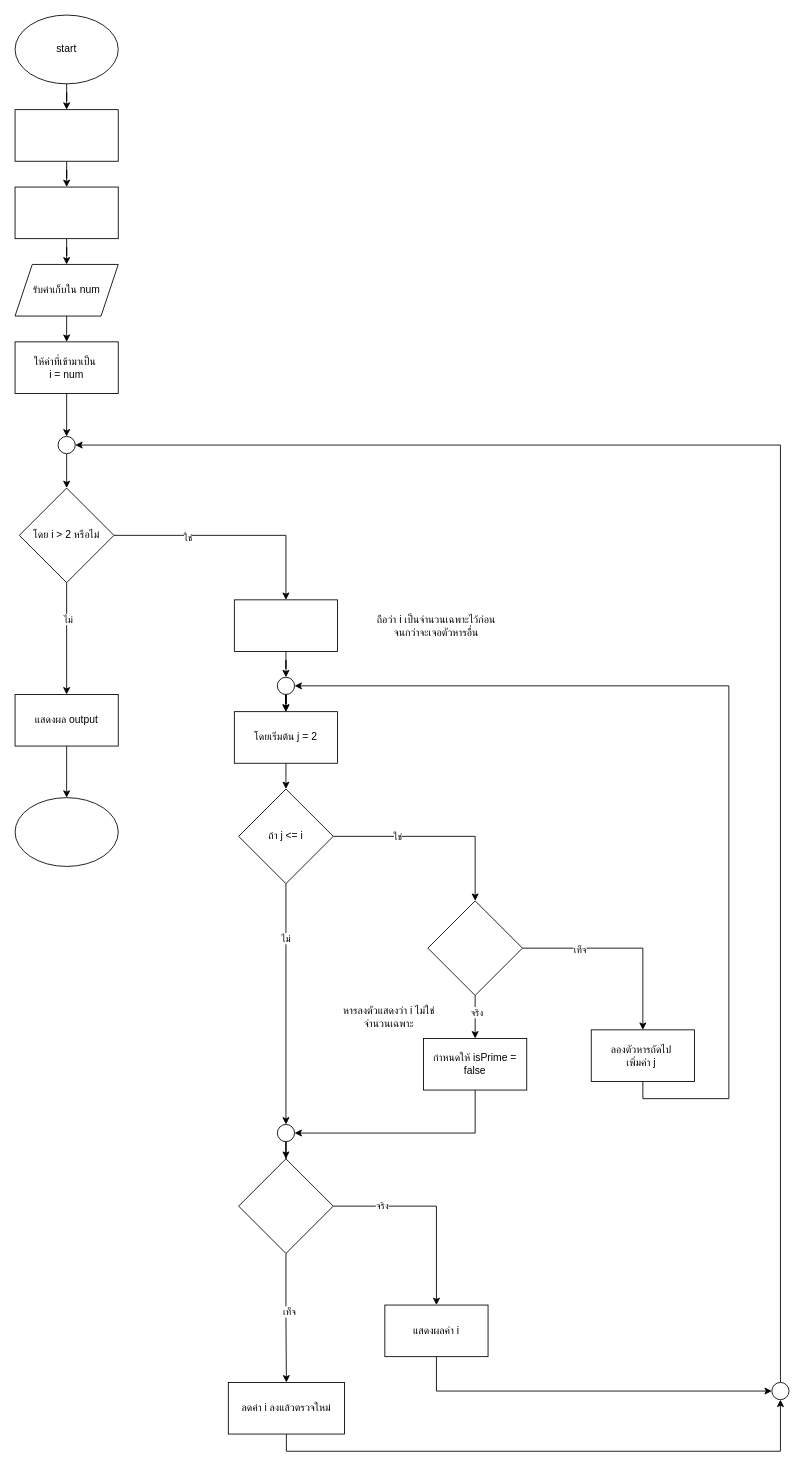
The diagram is 804 pixels wide and 1473 high, and some of its shapes have lost their labels. The centre of each missing label's shape, as x and y in pixels:
"End" belongs at point (66, 831).
"i หาร j = 0 หรือไม่" belongs at point (474, 947).
"Prime number ไหม" belongs at point (285, 1205).
"กำหนดให้ isPrime = true" belongs at point (285, 625).
"ประกาศตัวแปร int num" belongs at point (66, 135).
"แสดง 'Enter number' เพื่อรับค่าจากผู้ใช่" belongs at point (66, 212).
